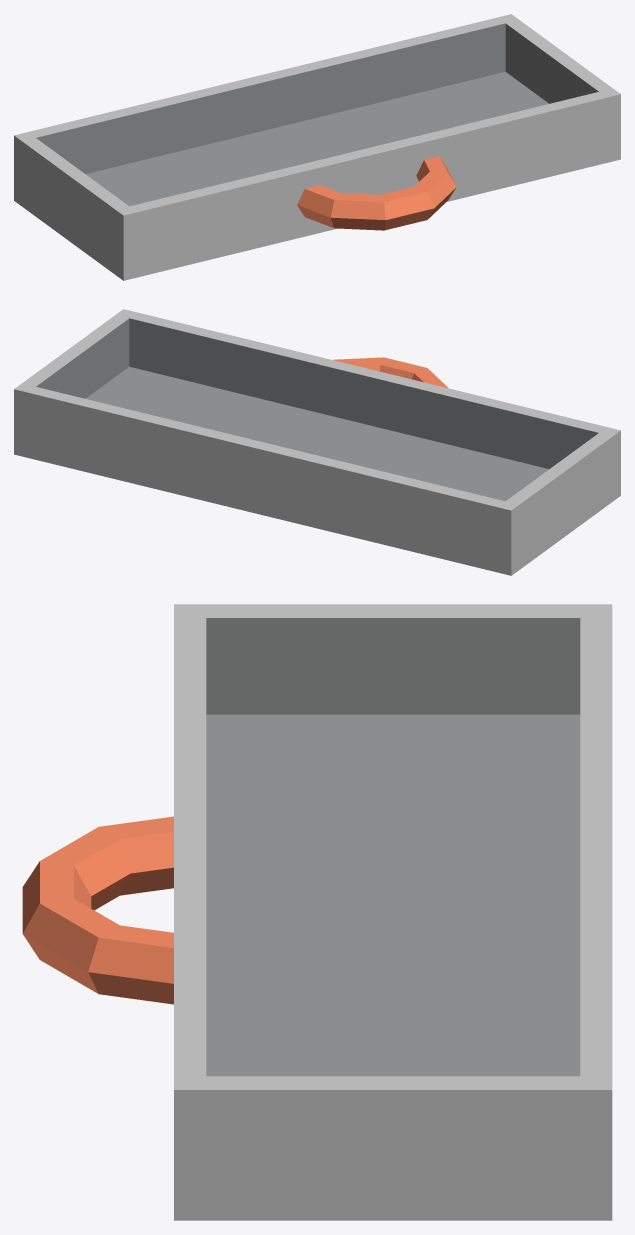
The model's file is suitcase.fbx.
The picture shows the model from 3 angles, top to bottom: view 1: azimuth 30°, elevation 25°; view 2: azimuth 150°, elevation 25°; view 3: azimuth 270°, elevation 25°; orthographic projection. The views are drawn at different scales.
Parts seen in each view (by area): view 1: Torus; view 2: Torus; view 3: Torus.
Boxes of the visible parts, x1,y1,x2,y2 form: Torus: (14,14,620,280); Torus: (14,309,620,575); Torus: (22,604,612,1220).
Size of the model in its own units: 797 by 100 by 409.
